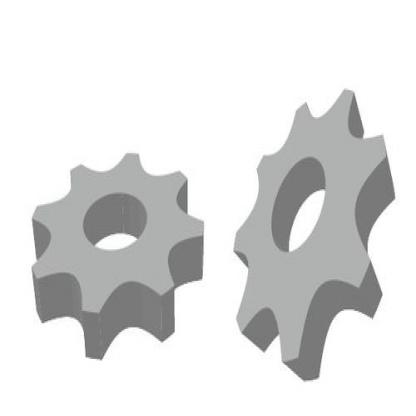FOD: (228, 84, 397, 388), (29, 147, 209, 364)
